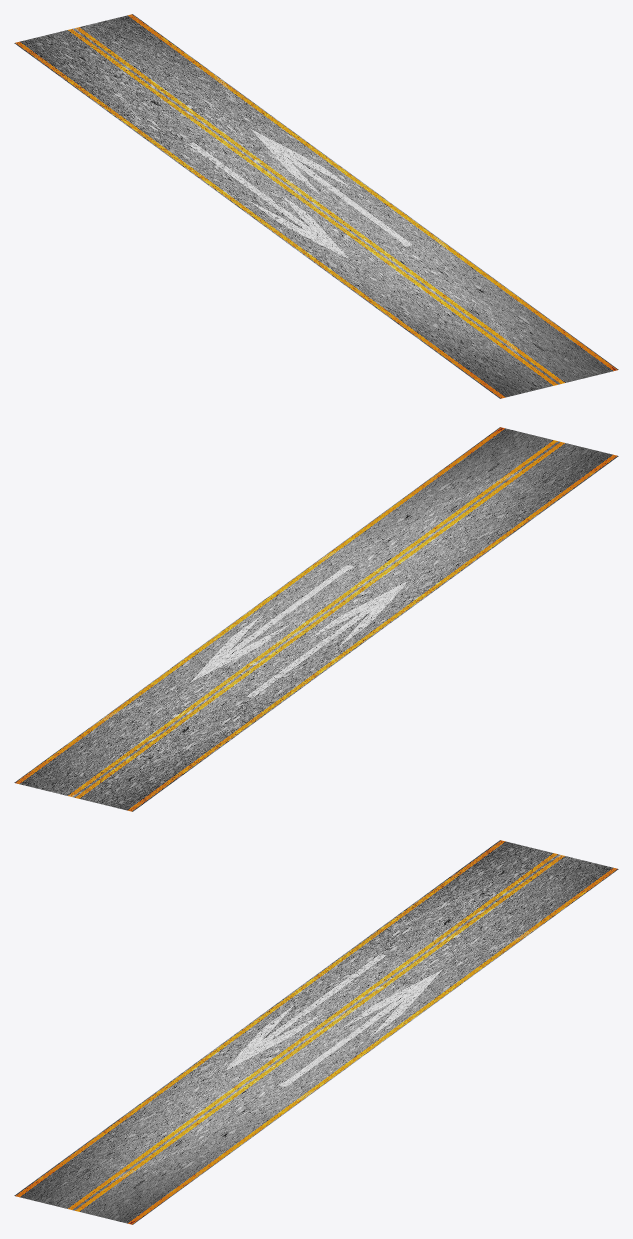
Rendered from carril.obj.
The picture shows the model from 3 angles, top to bottom: view 1: azimuth 30°, elevation 25°; view 2: azimuth 150°, elevation 25°; view 3: azimuth 330°, elevation 25°; orthographic projection.
Visible parts, largest first — view 1: Plane001; view 2: Plane001; view 3: Plane001.
Part boxes in pixels (box(x1,y1,x2,y2)): Plane001: box(14, 14, 618, 398); Plane001: box(14, 427, 618, 811); Plane001: box(14, 840, 618, 1224).
Bounding box in the file's own units: 317 × 0 × 2245.
Materials: 1 (1 with a texture image).
